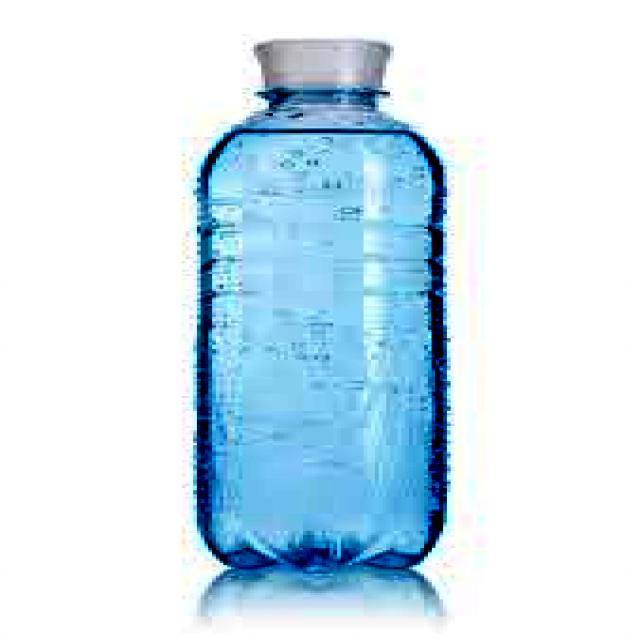Plastic: (197, 34, 454, 578)
